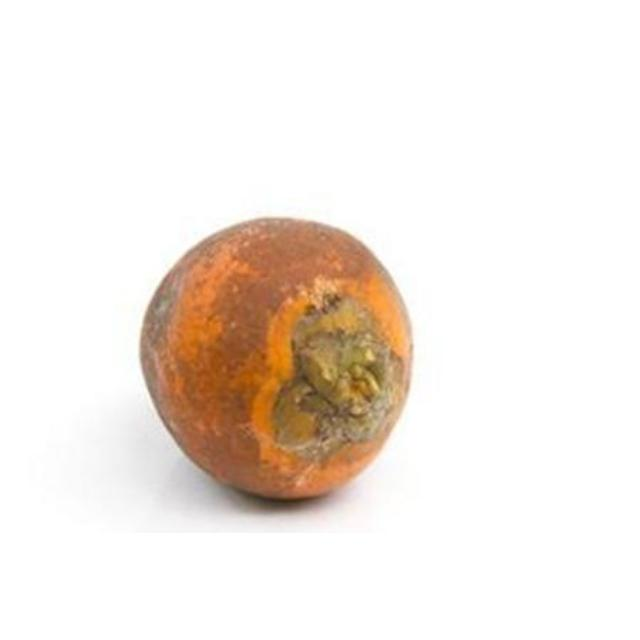good: (139, 218, 415, 502)
